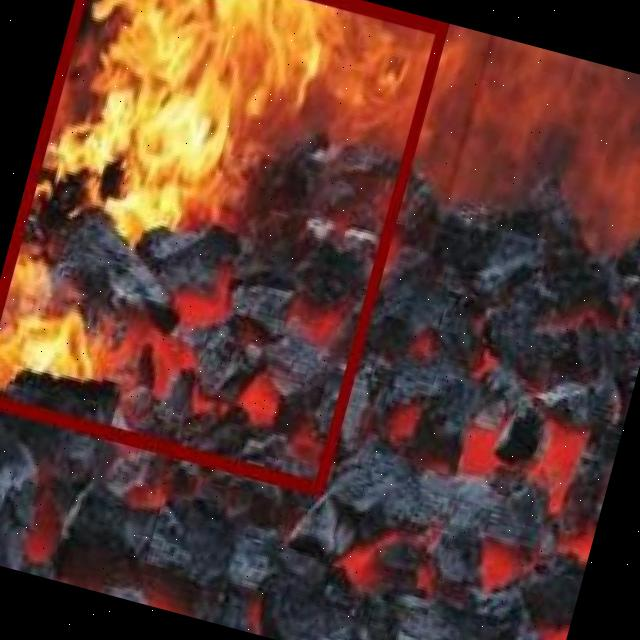fire: (0, 0, 447, 491)
